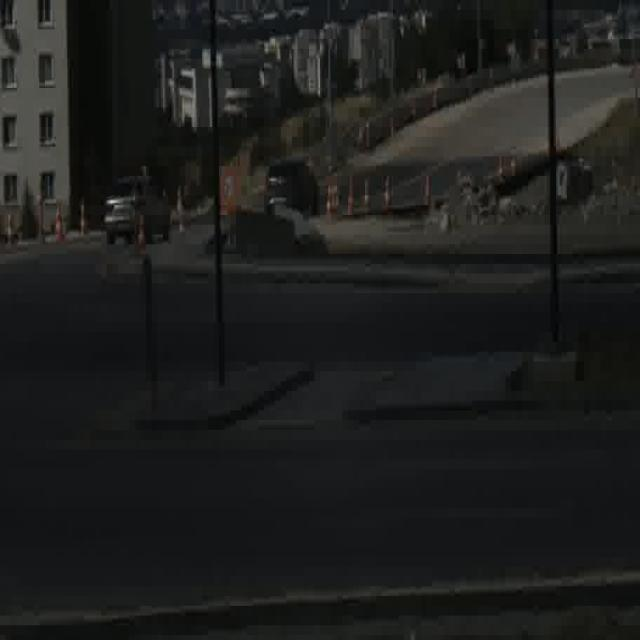Car: (104, 166, 172, 246), (264, 155, 321, 220)
